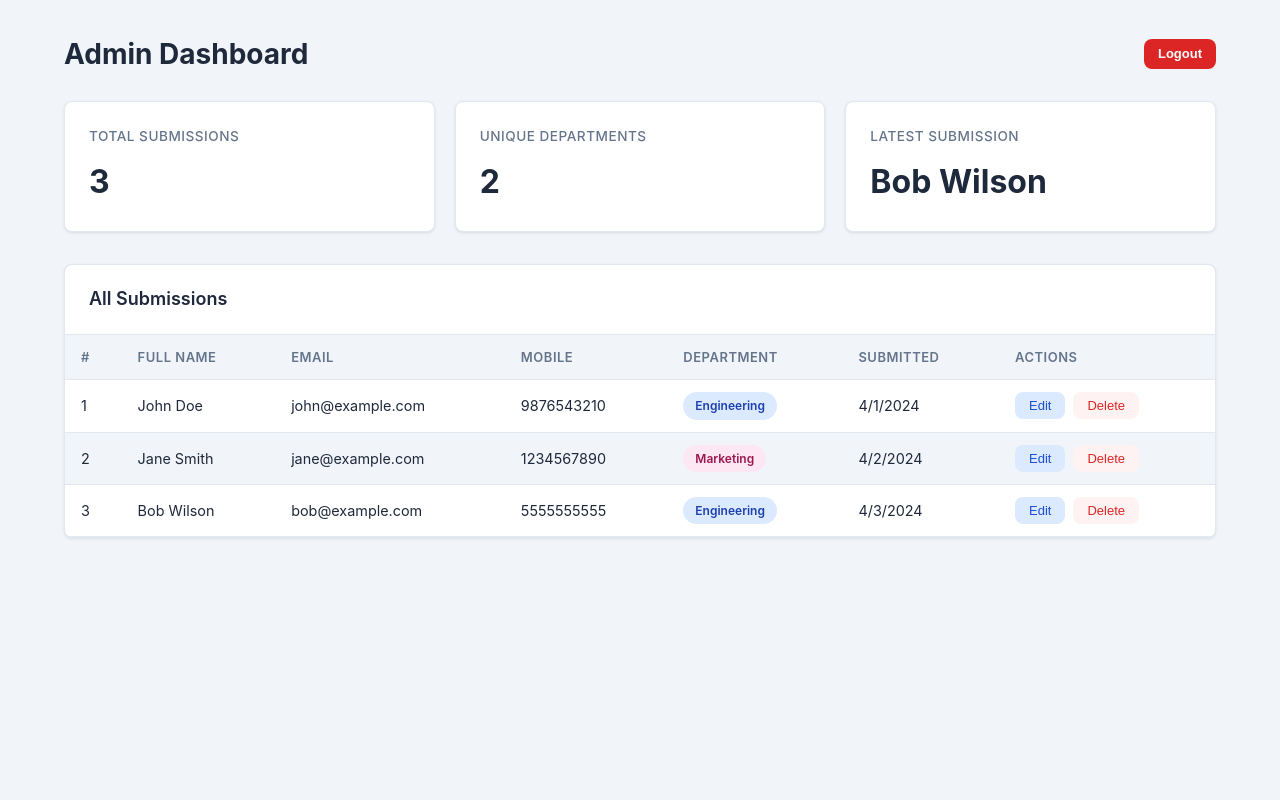
Test: AdminDashboard › clicking Edit button opens EditModal
Click the button "Edit" in the row of "John Doe" at (1040, 406), box [1015,392,1065,419]
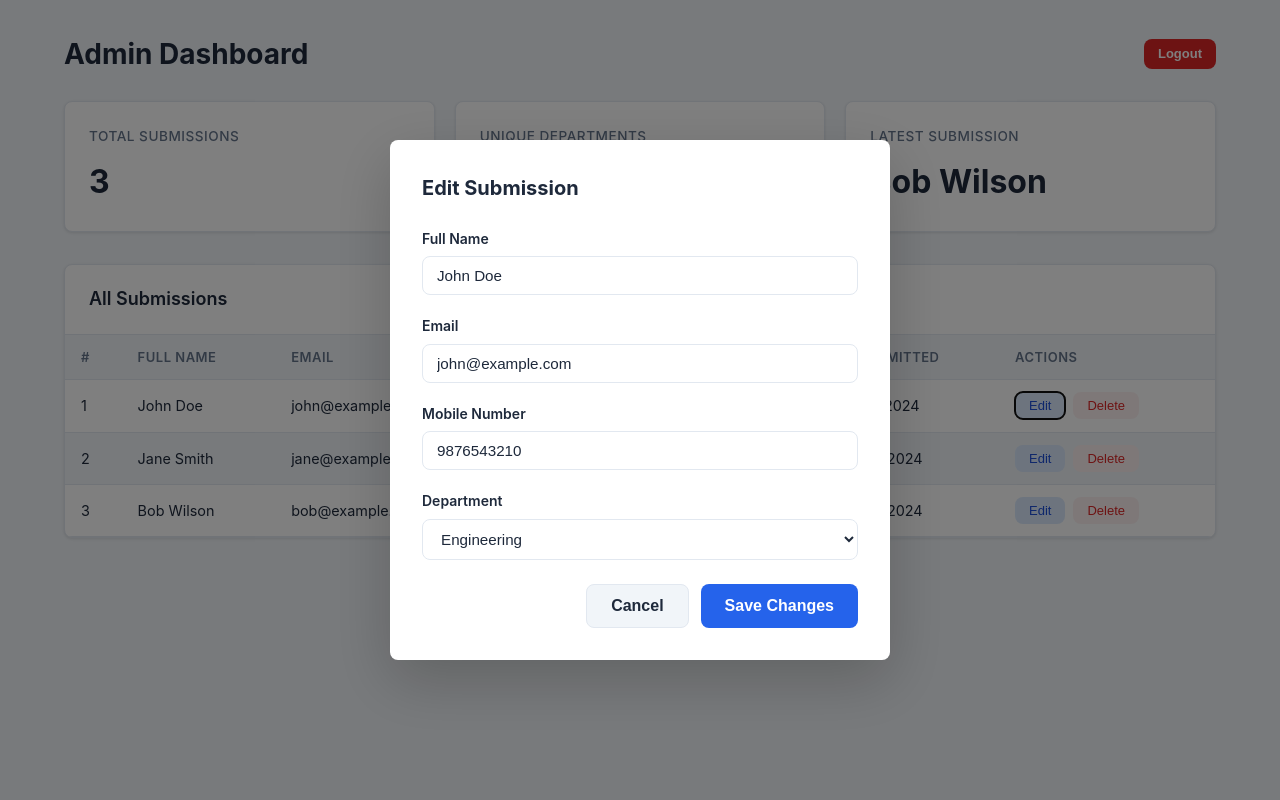
Now the heading "Edit Submission" is shown, box [422,176,579,200]
Now the field showing "John Doe" is shown, box [422,256,858,295]
